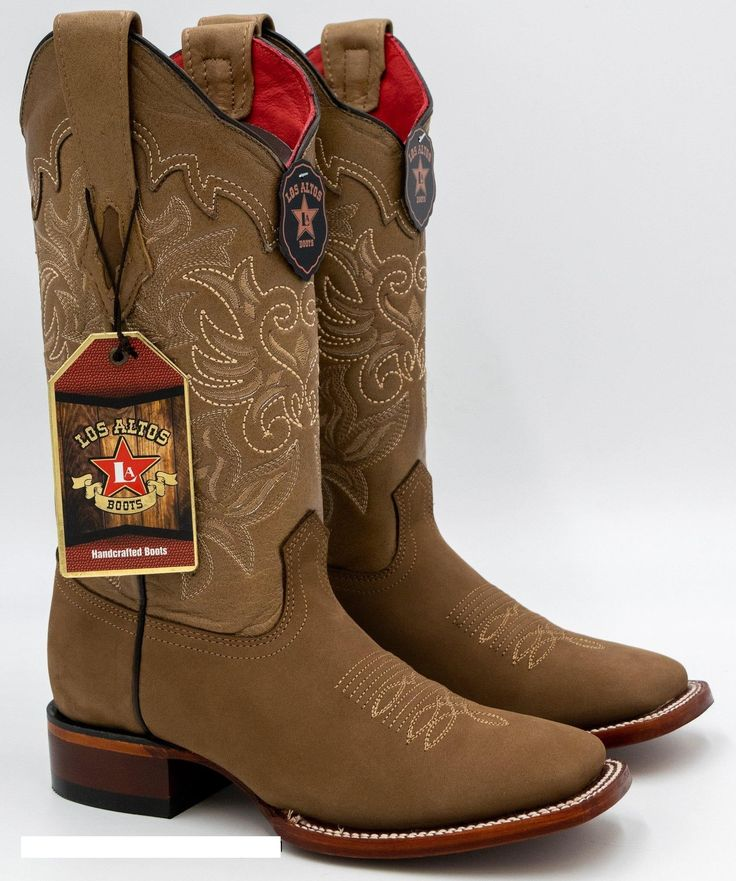gamuza: (19, 11, 691, 835)
